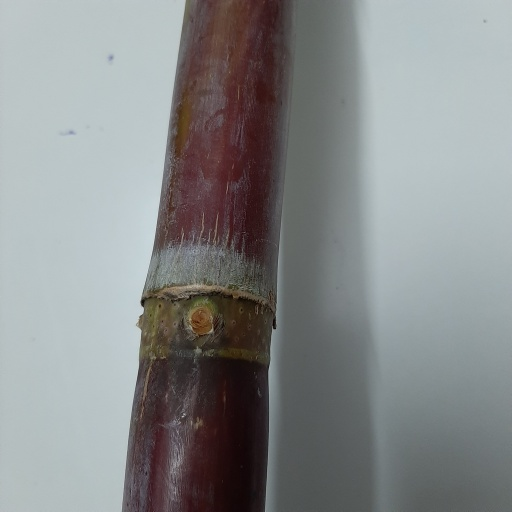Damage_Bud: (186, 306, 213, 338)
